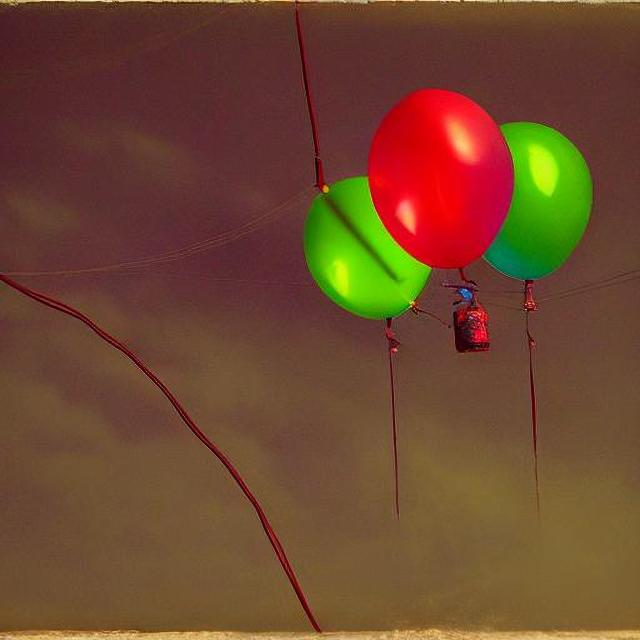balloon: (295, 82, 595, 328)
